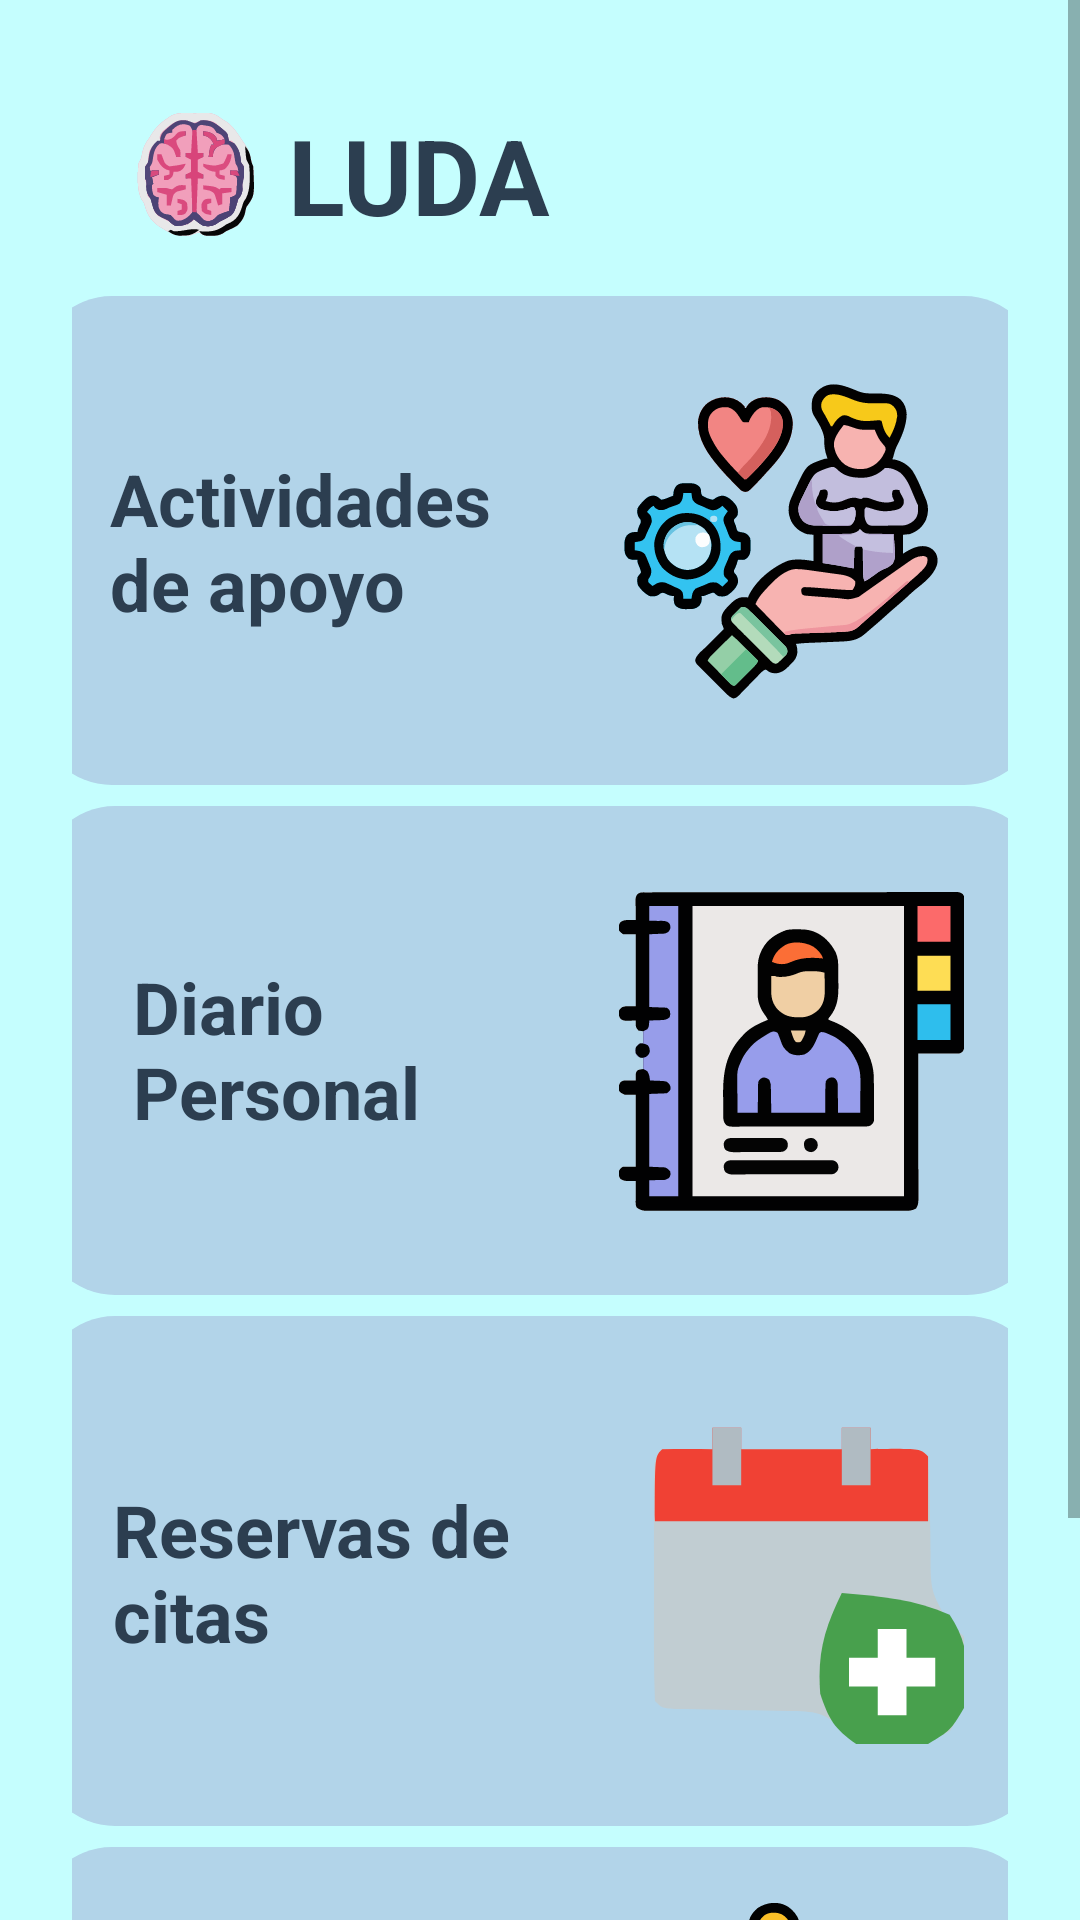

Where to tap for icons on this 1080x1920 app screen, as (x=x, y=y):
agenda: (x=791, y=1051)
calendar: (x=809, y=1585)
mental: (x=196, y=174)
support activities: (x=781, y=541)
